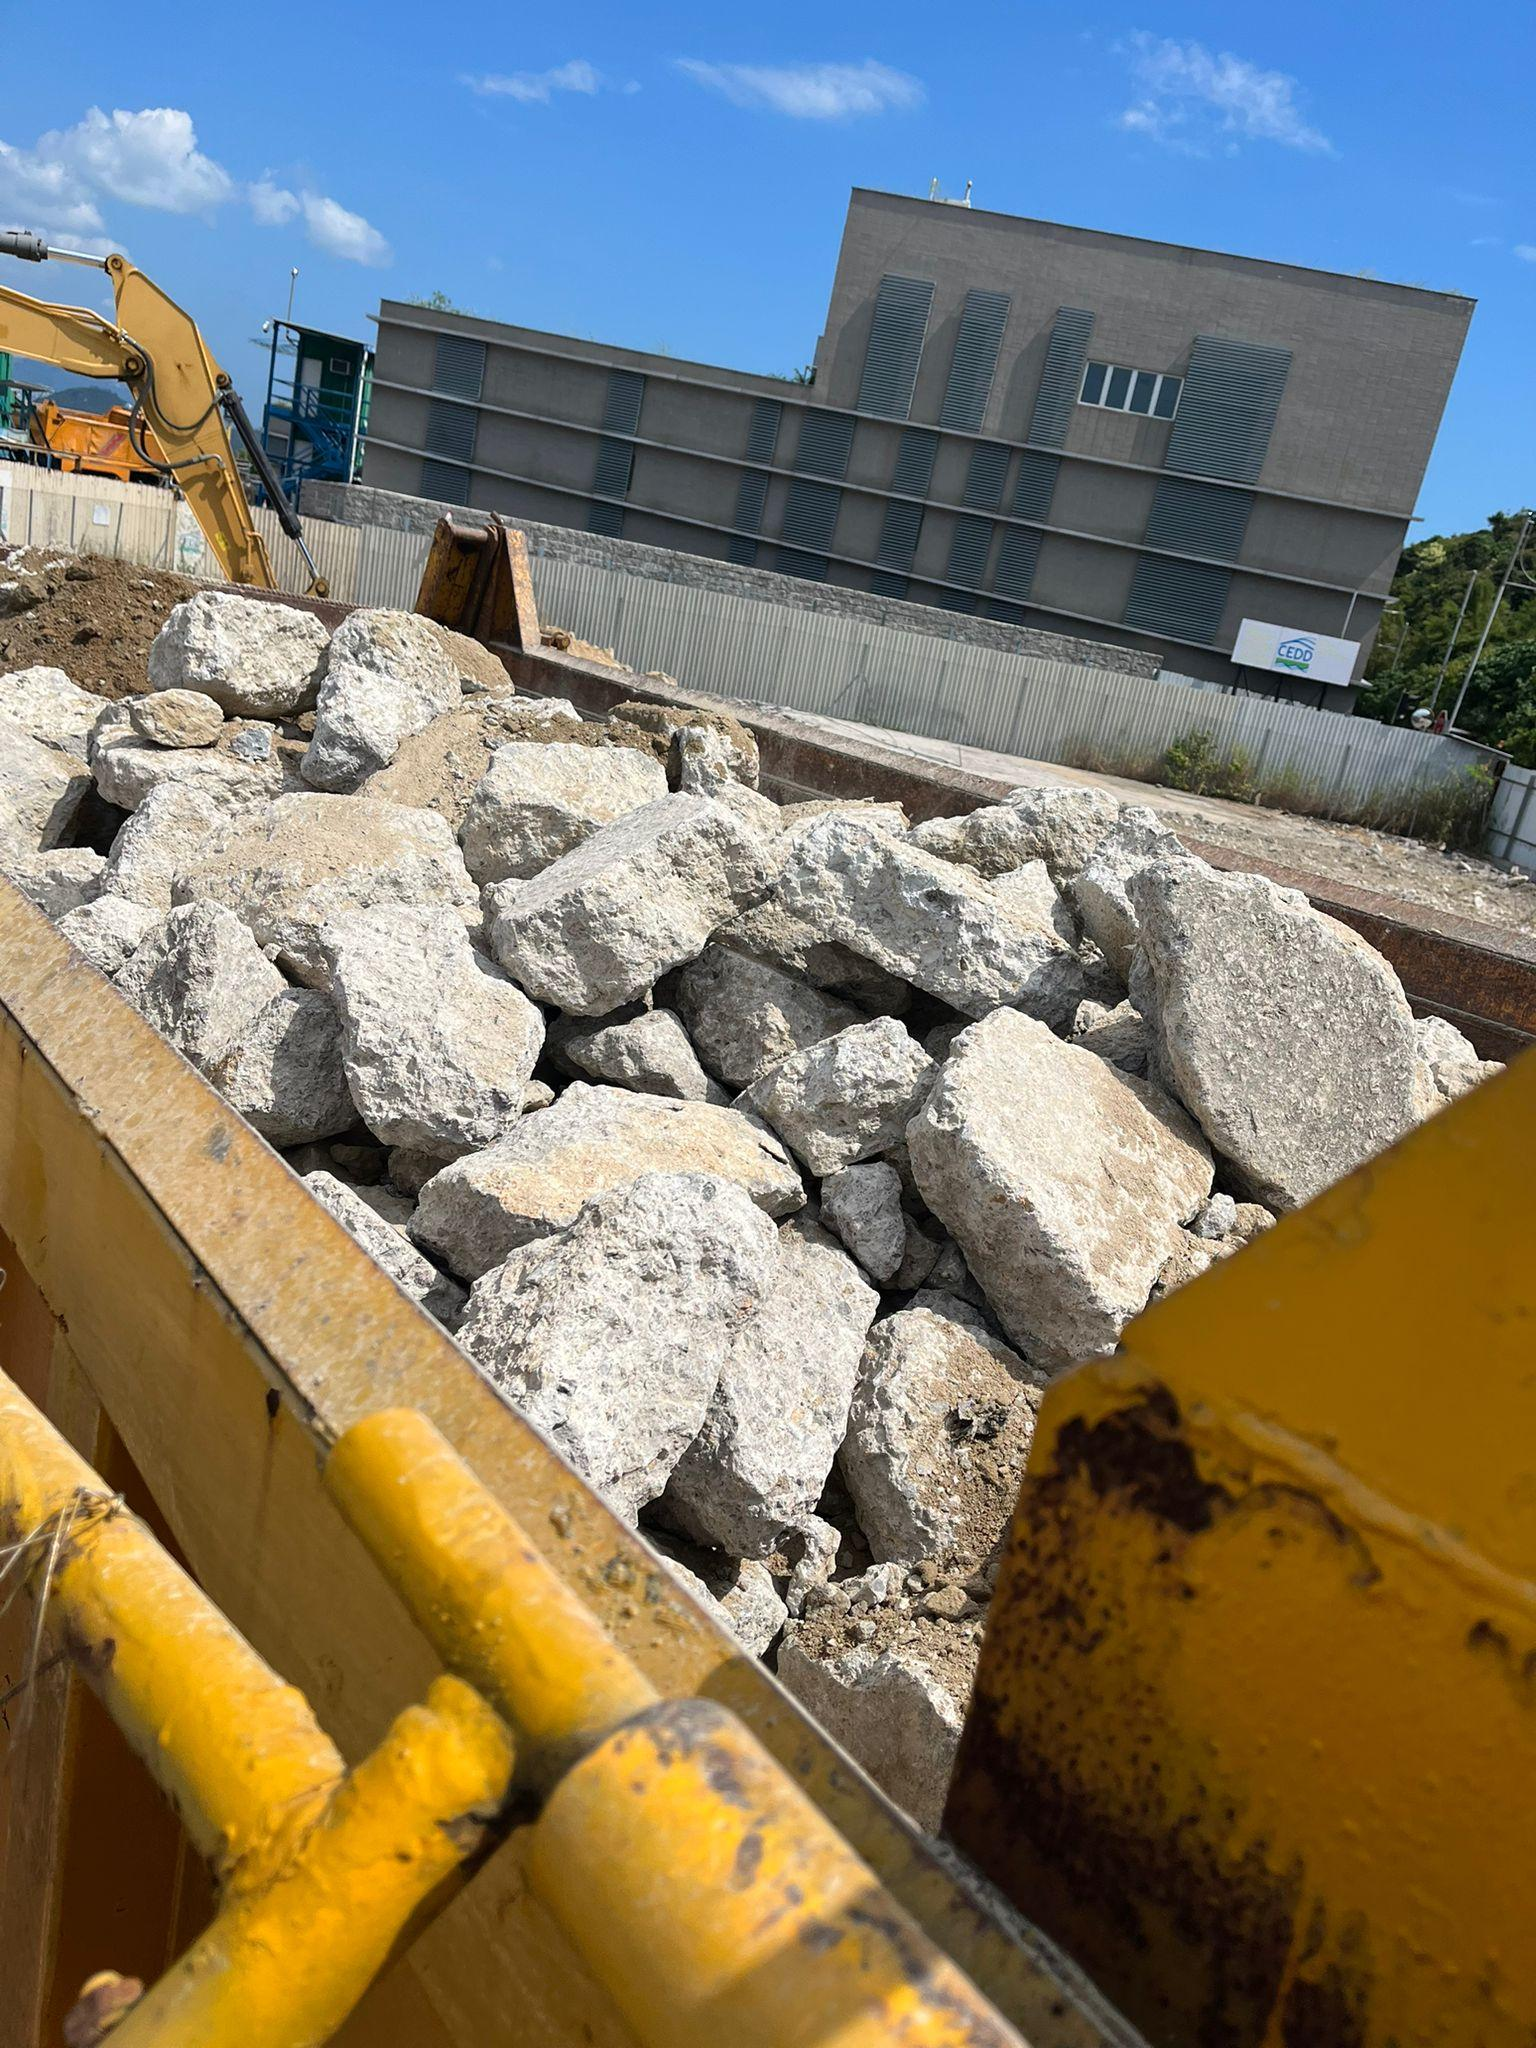dry: (10, 619, 1463, 1784)
